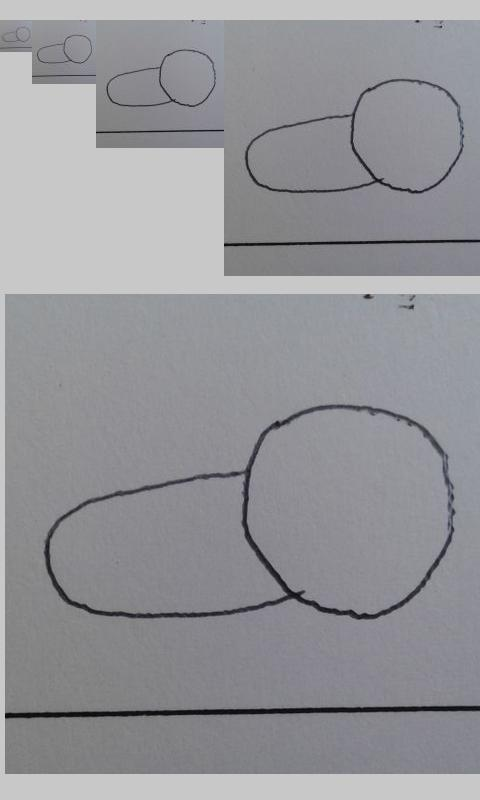switch: (43, 404, 459, 620), (244, 78, 466, 195), (106, 49, 217, 108), (36, 34, 93, 64), (1, 26, 32, 43)
